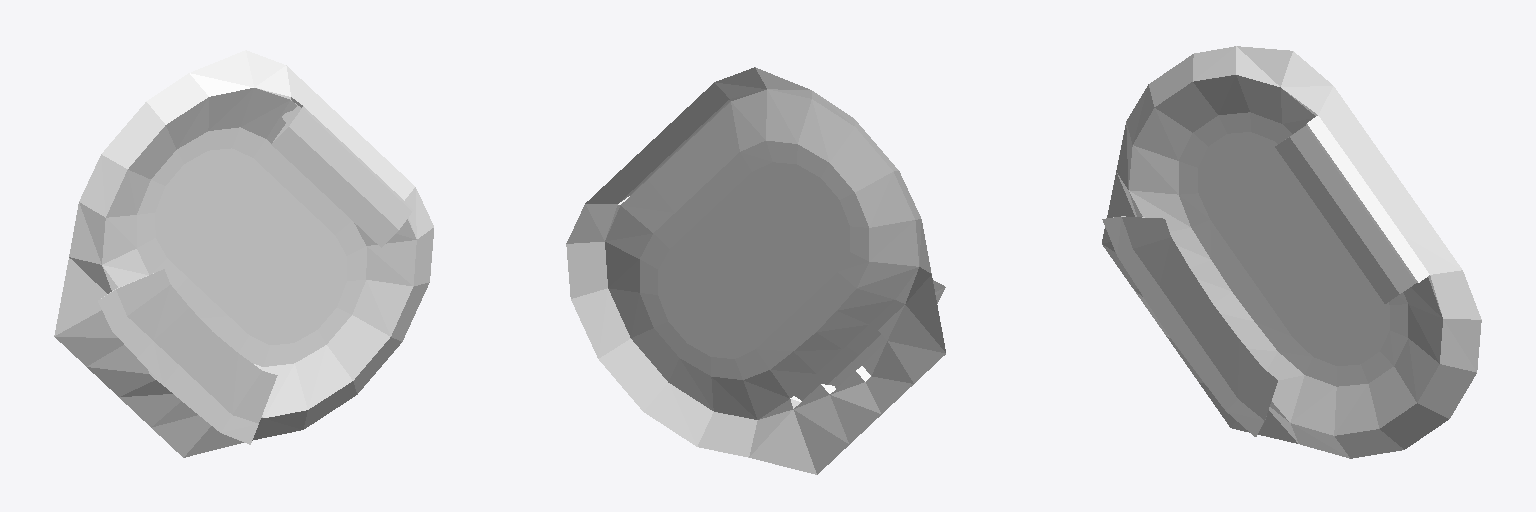
Rendered from DEU_609_KARLSRUHE_WILDPAR_L.OBJ.
3 views of the same model, side by side, from view 1: azimuth 30°, elevation 25°; view 2: azimuth 150°, elevation 25°; view 3: azimuth 330°, elevation 25° (orthographic).
Visible parts, largest first — view 1: DEU_609_KARLSRUHE_WILDPAR; view 2: DEU_609_KARLSRUHE_WILDPAR; view 3: DEU_609_KARLSRUHE_WILDPAR.
Part boxes in pixels (x1,y1,x2,y2): DEU_609_KARLSRUHE_WILDPAR: (54,50,433,457); DEU_609_KARLSRUHE_WILDPAR: (566,67,945,474); DEU_609_KARLSRUHE_WILDPAR: (1102,46,1481,458).
Size of the model in its own units: 218 by 216 by 23.21.